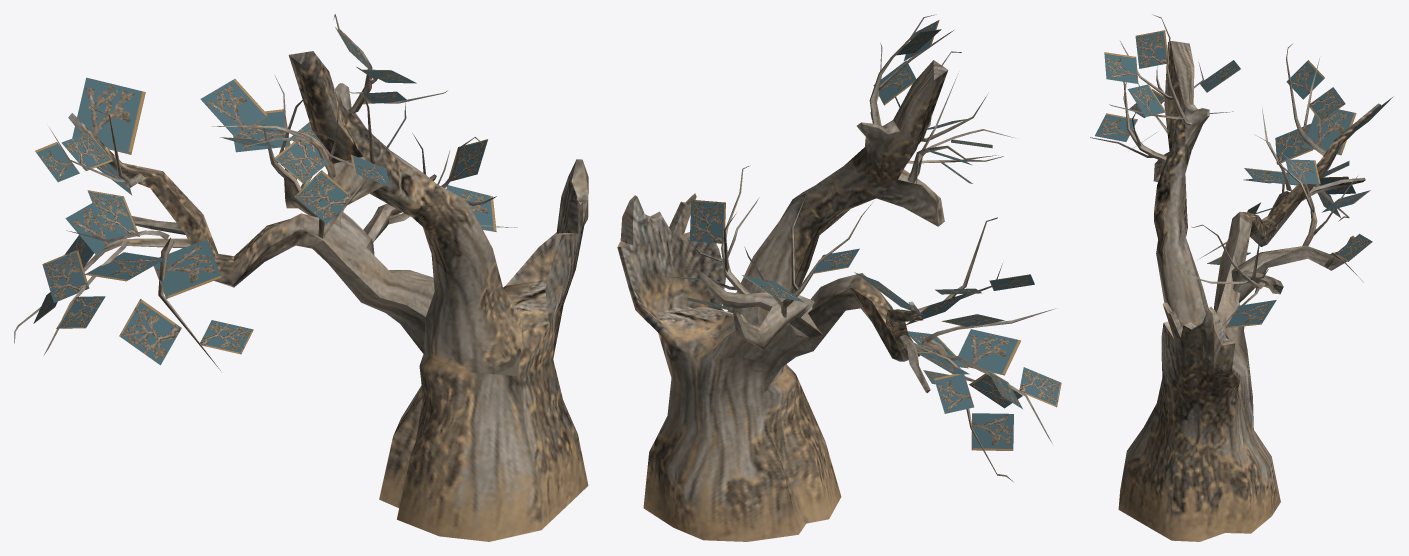
The model's file is xsm_shu_8.FBX.
The picture shows the model from 3 angles, left to right: view 1: azimuth 30°, elevation 25°; view 2: azimuth 150°, elevation 25°; view 3: azimuth 270°, elevation 25°; orthographic projection. The views are drawn at different scales.
Visible parts, largest first — view 1: xsm_shu_8; view 2: xsm_shu_8; view 3: xsm_shu_8.
Boxes of the visible parts, left/top/right/bottom form: xsm_shu_8: left=14, top=14, right=588, bottom=541; xsm_shu_8: left=617, top=14, right=1061, bottom=541; xsm_shu_8: left=1090, top=14, right=1393, bottom=541.
Size of the model in its own units: 764 by 785 by 511.
